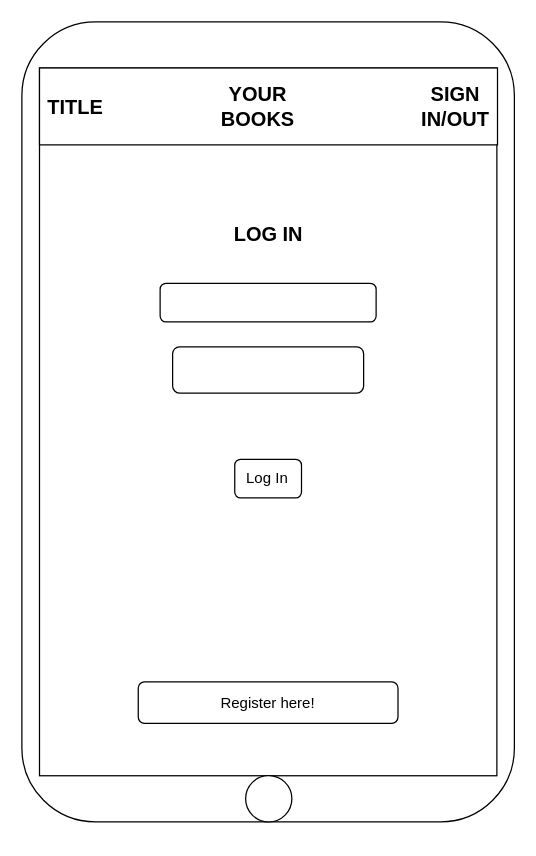
This 536x856 diagram has some shape labels left out. Here are the shapes that lost their labels. From the top down, the box of each, then its label:
(159, 282, 376, 322): Username
(171, 346, 364, 393): Password
